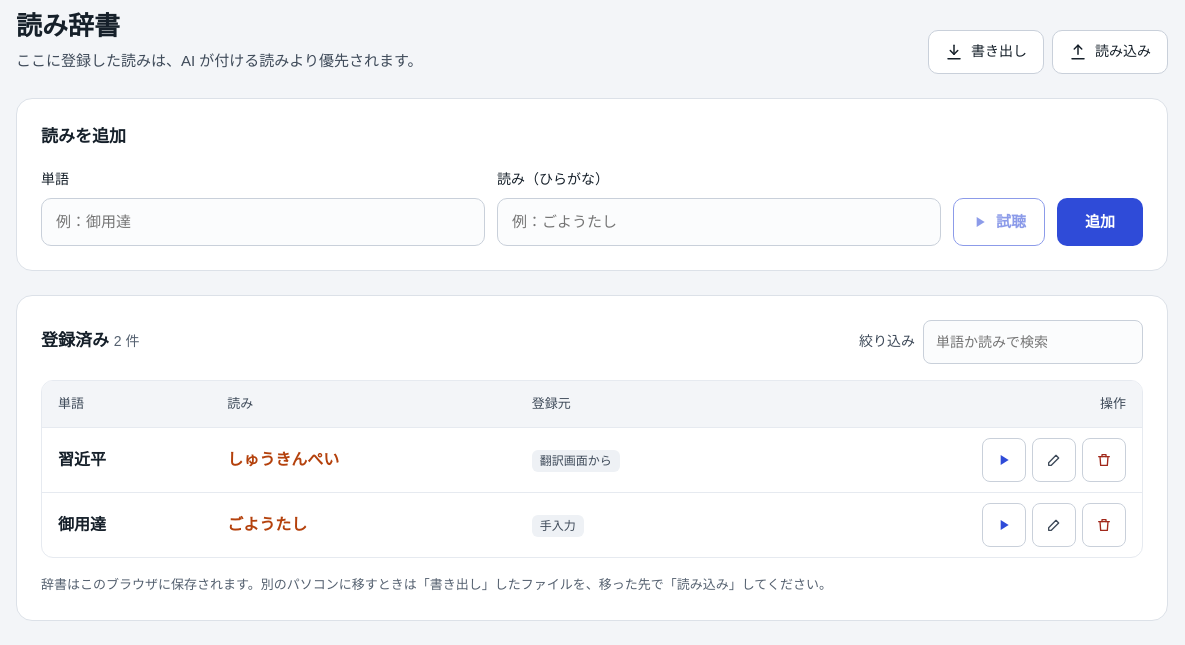
Test: Dictionary 一覧 › 削除すると辞書と一覧から消える
Click the button named "習近平 を削除" at (1104, 460), box [1082, 438, 1126, 482]
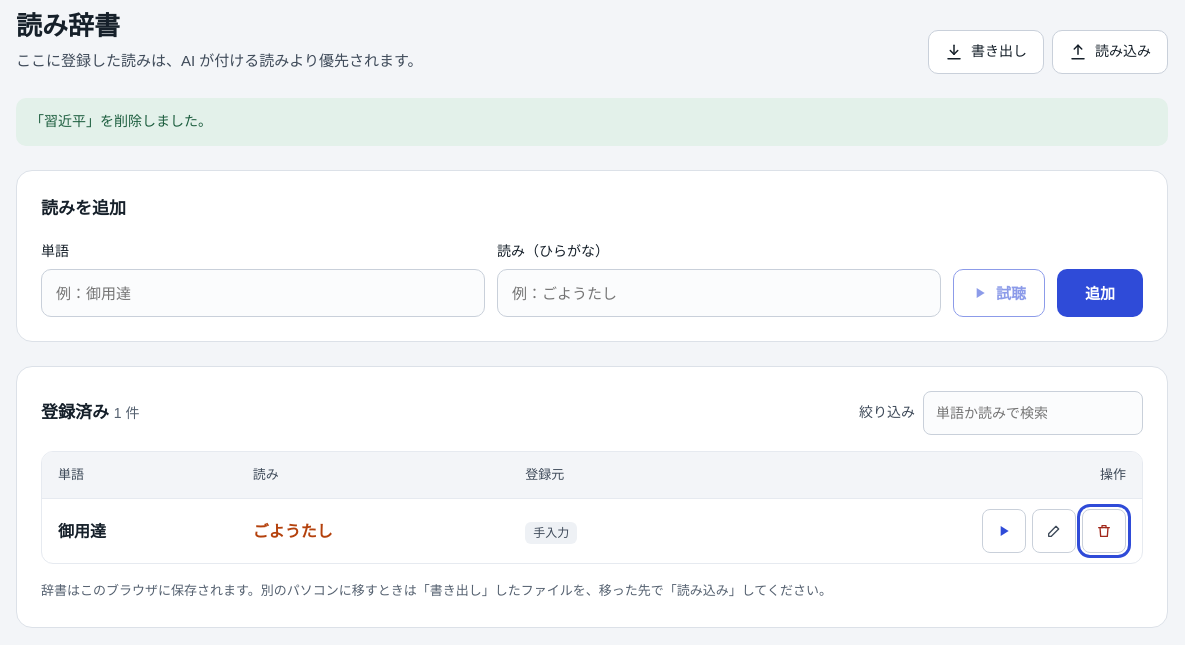
Expected: the text "1 件" is shown, [114, 405, 139, 421]
